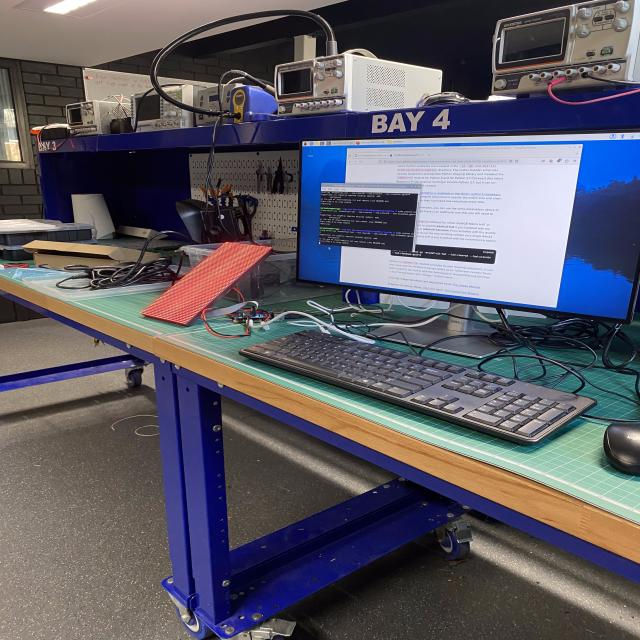matrix: (131, 234, 280, 332)
